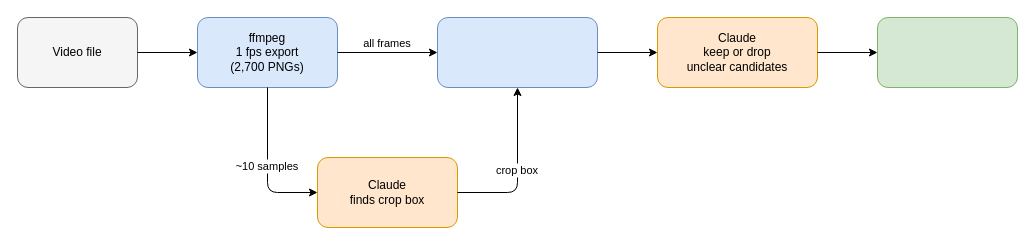
Image size: 1035x245. Some labels were removed from this diagram. Here are the shapes that lost their labels. From the top down, the box of each, then its label:
(436, 16, 598, 88): Script crop + image diff (50-100 candidates)
(876, 16, 1018, 88): Cropped PNGs (one per change)
